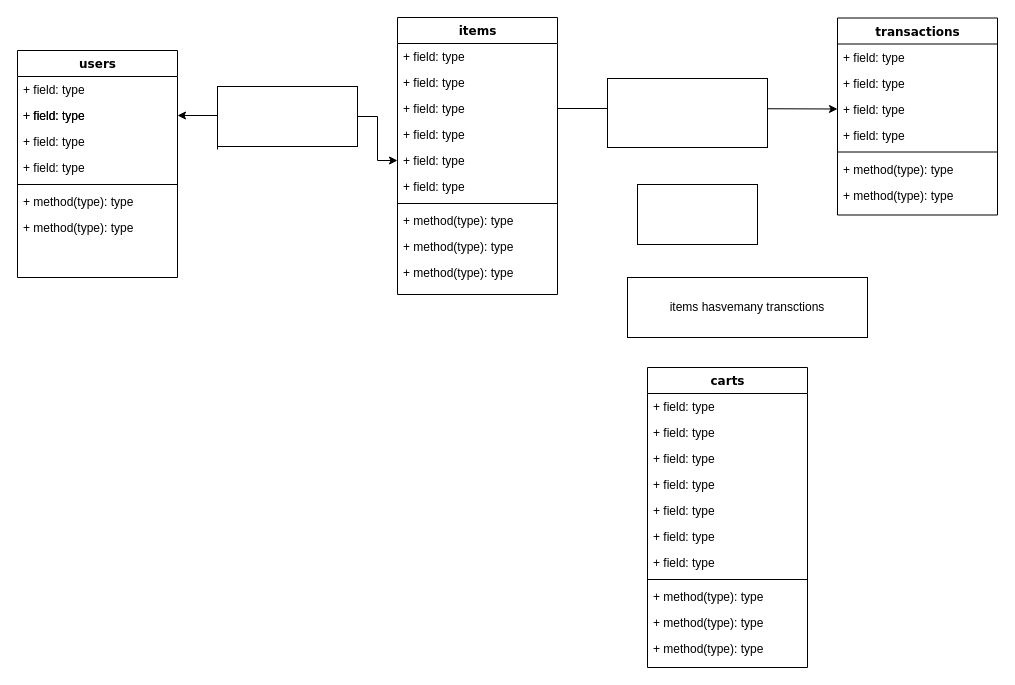
Some shapes in this 1015 by 685 pixel diagram are drawn without their labels. Here are the shapes that lost their labels. From the top down, the centre of each, then its label:
At pixel 287 116: "users has many items item has one user".
At pixel 687 113: "item has one transaction transaction has many items".
At pixel 697 214: "user assoc to transactions?".
